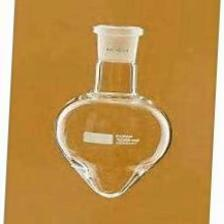Pear shaped flask: (53, 25, 181, 197)
